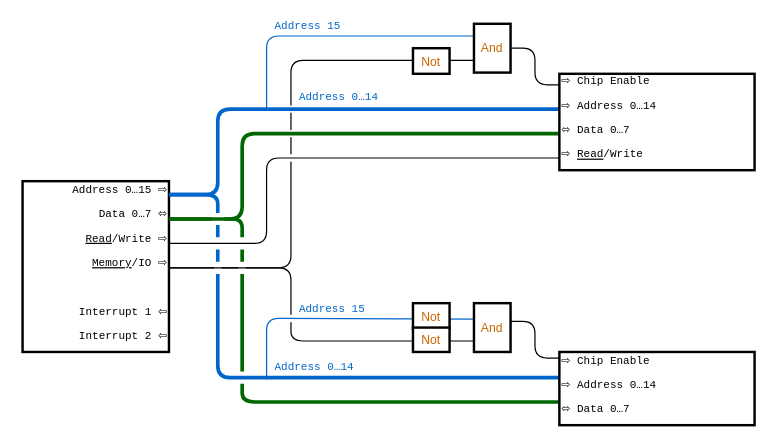
Image size: 776x448. Some labels were removed from this diagram. Each missing label, with the box of its shape:
CPU: (21, 179, 170, 353)
RAM $8000 - $FFFF: (558, 72, 755, 171)
ROM $0000 - $7FFF: (558, 350, 755, 426)
